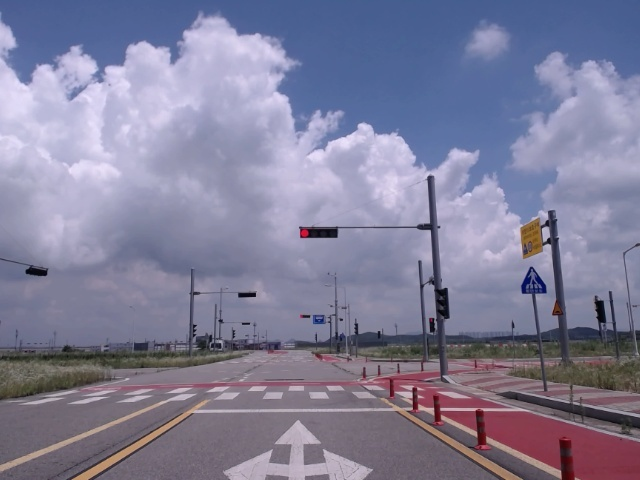red_4: (300, 228, 338, 238)
